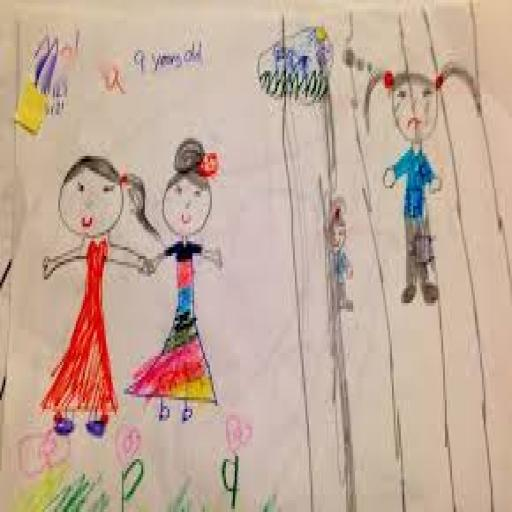person: (30, 150, 156, 446), (362, 52, 484, 314), (124, 127, 228, 431), (307, 171, 364, 323)
